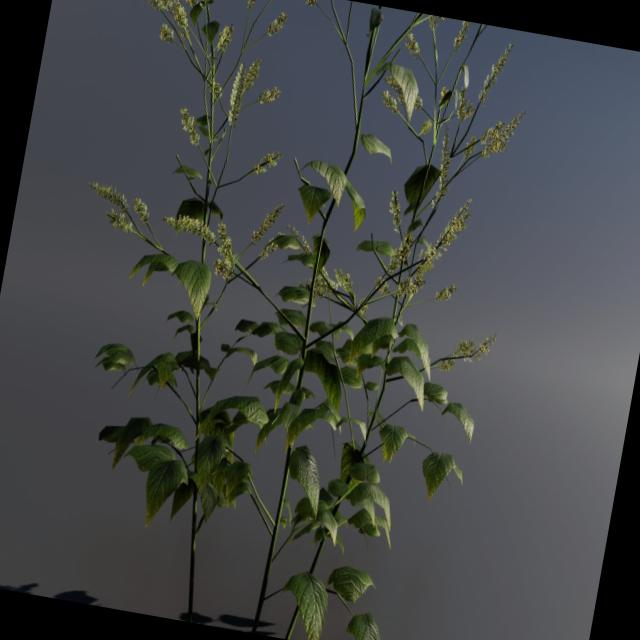Medicinal-Arive Dantu: (262, 23, 538, 640), (77, 0, 297, 302), (77, 322, 292, 560), (240, 148, 342, 355)
